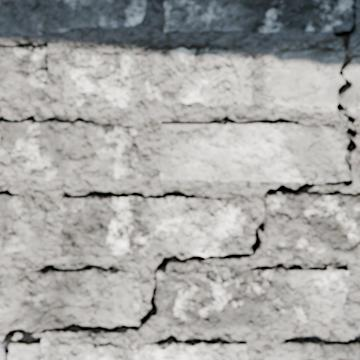brick: (157, 267, 347, 329), (63, 46, 253, 108), (61, 195, 250, 256), (160, 121, 348, 181), (0, 267, 140, 330), (0, 120, 140, 180), (164, 0, 352, 32), (266, 193, 359, 253), (0, 0, 145, 33), (57, 341, 247, 359), (0, 193, 46, 252), (0, 46, 46, 100), (263, 341, 359, 359)
broken_brick: (271, 47, 342, 106), (345, 54, 359, 107), (9, 340, 41, 359), (0, 350, 3, 359)
crack: (0, 0, 358, 359), (0, 128, 12, 158)
